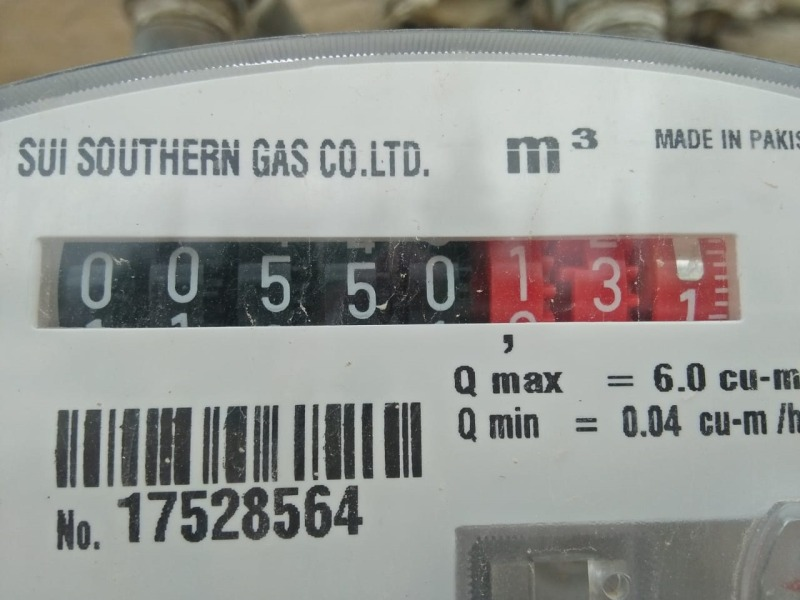ssgc: (32, 233, 746, 334)
